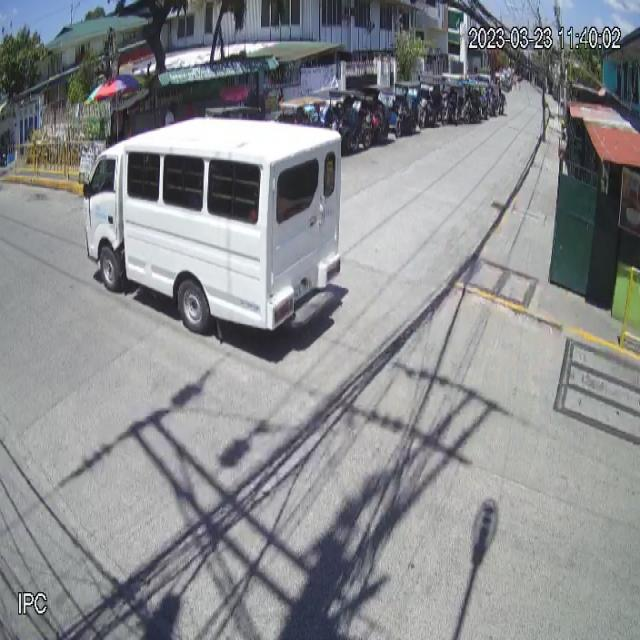Van: (81, 115, 341, 336)
